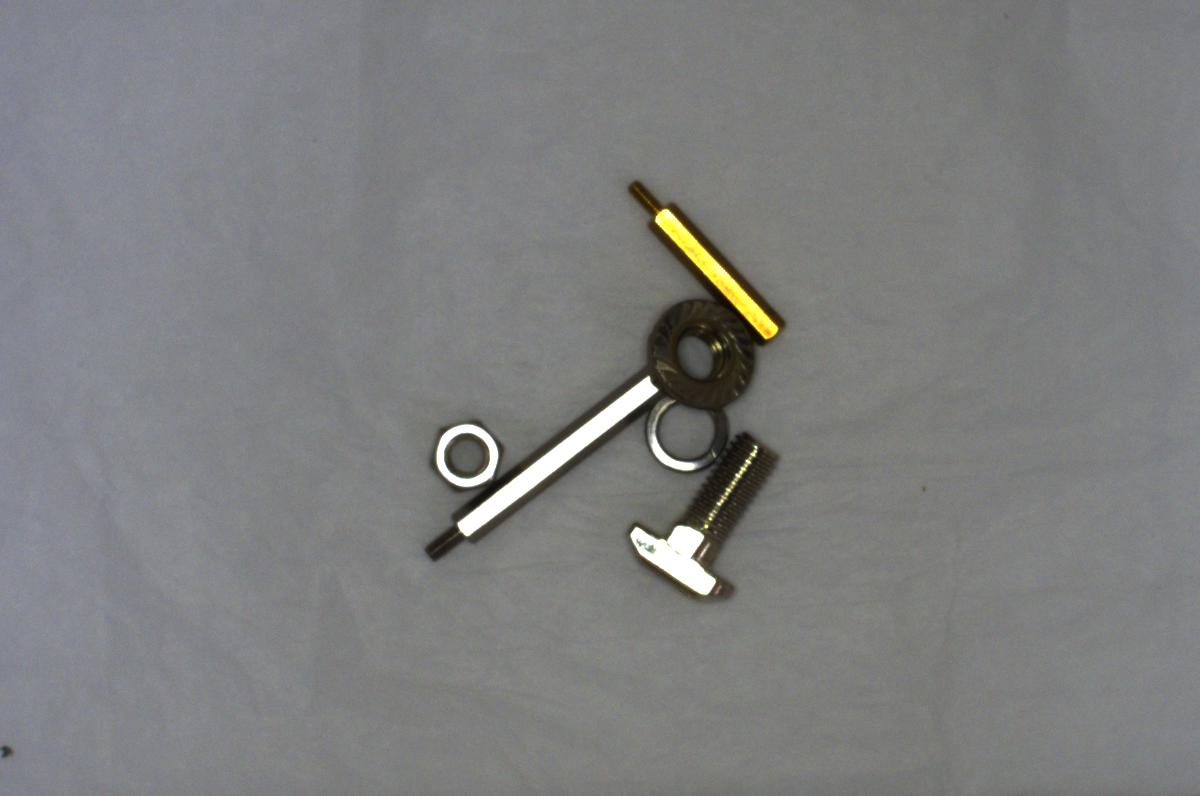Flange nut: (638, 292, 767, 410)
Hexagon nut: (416, 415, 512, 492)
Hexagon pillar: (624, 172, 784, 341)
Hexagonal steel column: (421, 372, 666, 556)
Spring washer: (642, 385, 733, 478)
T-shaped screw: (621, 431, 779, 612)
